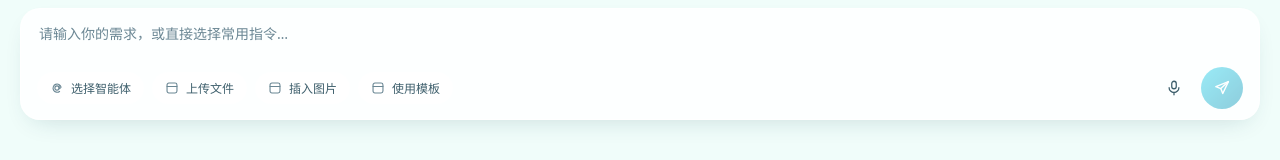
Test case: Enter sends and clears the box
Click the text box labelled "输入你的需求" at (640, 37), box x1=37 y1=21 x2=1243 y2=53
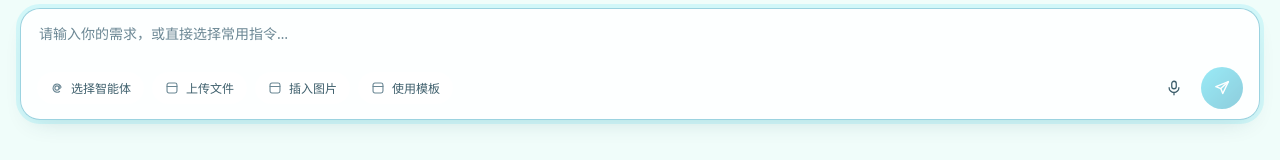
Type keys "加一个预约入口"
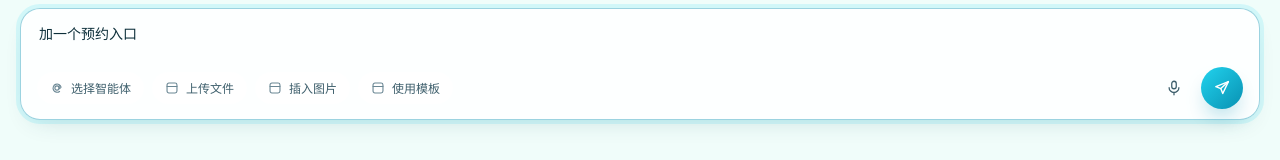
Press Enter
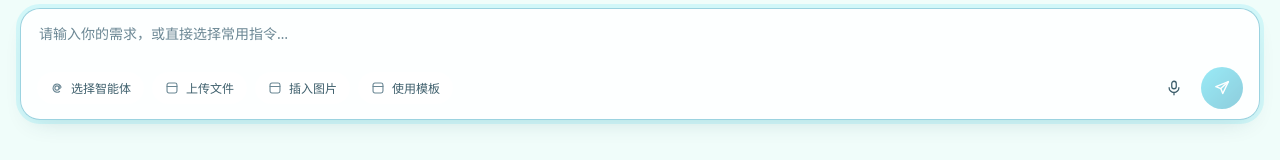
Expected: the text box labelled "输入你的需求" is empty, x1=37 y1=21 x2=1243 y2=53
